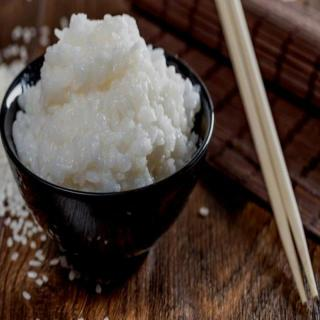Nasi: (12, 12, 202, 194)
